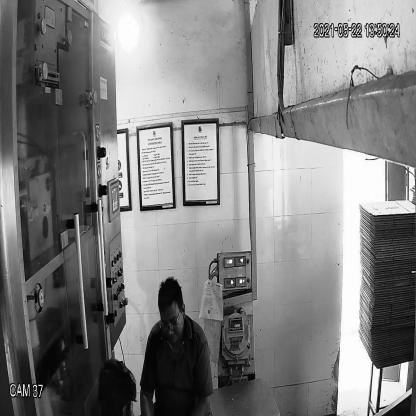goggles: (157, 313, 184, 338)
